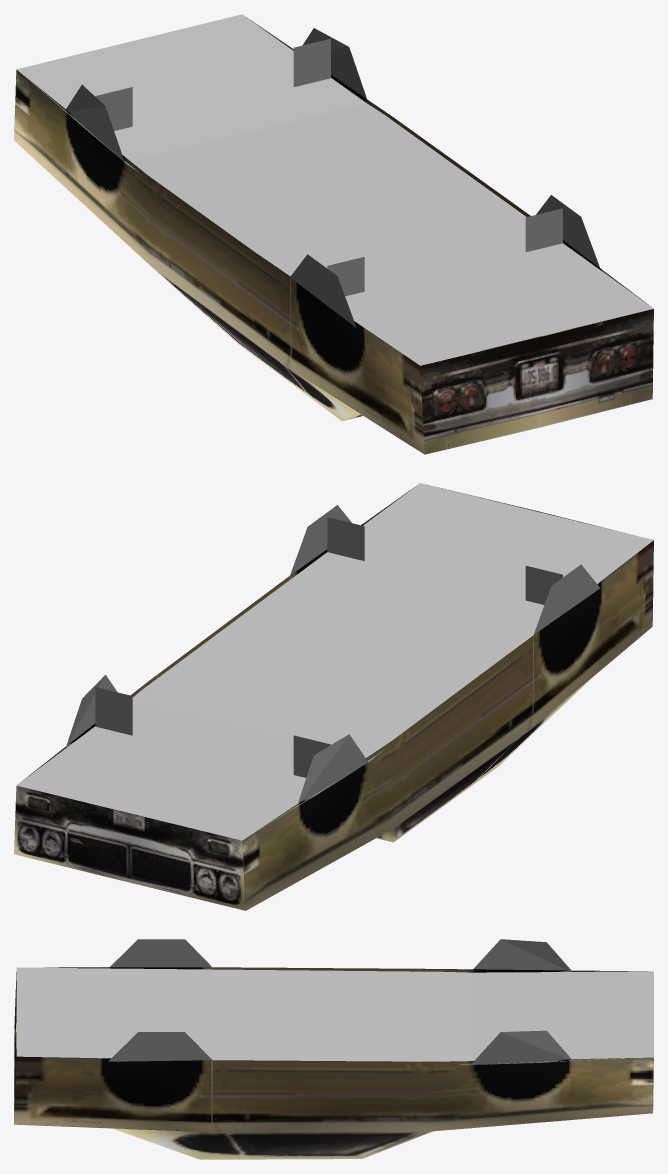
File: CHICAGO_model12_low.obj
The picture shows the model from 3 angles, top to bottom: view 1: azimuth 30°, elevation 25°; view 2: azimuth 150°, elevation 25°; view 3: azimuth 270°, elevation 25°; orthographic projection. The views are drawn at different scales.
Parts seen in each view (by area): view 1: CHICAGO_model12_low; view 2: CHICAGO_model12_low; view 3: CHICAGO_model12_low.
Boxes of the visible parts, x1=… form: CHICAGO_model12_low: x1=14, y1=14, x2=653, y2=454; CHICAGO_model12_low: x1=14, y1=483, x2=653, y2=910; CHICAGO_model12_low: x1=14, y1=939, x2=653, y2=1159.
Size of the model in its own units: 248 by 180 by 722.
